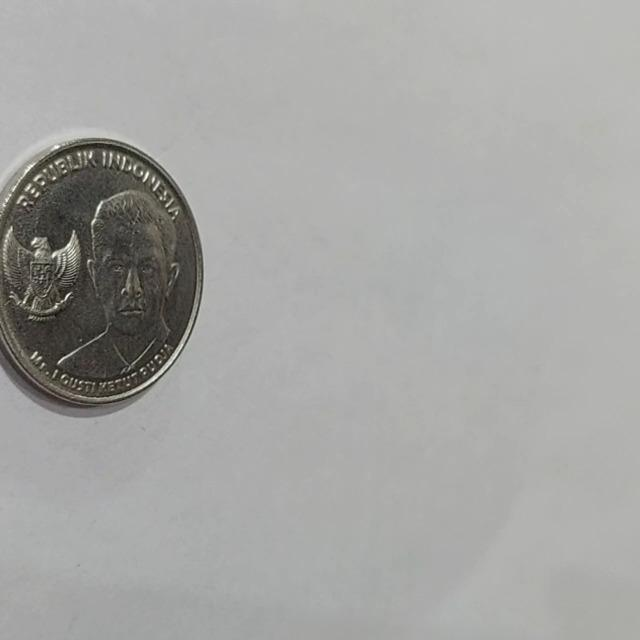Rp100: (0, 134, 205, 411)
